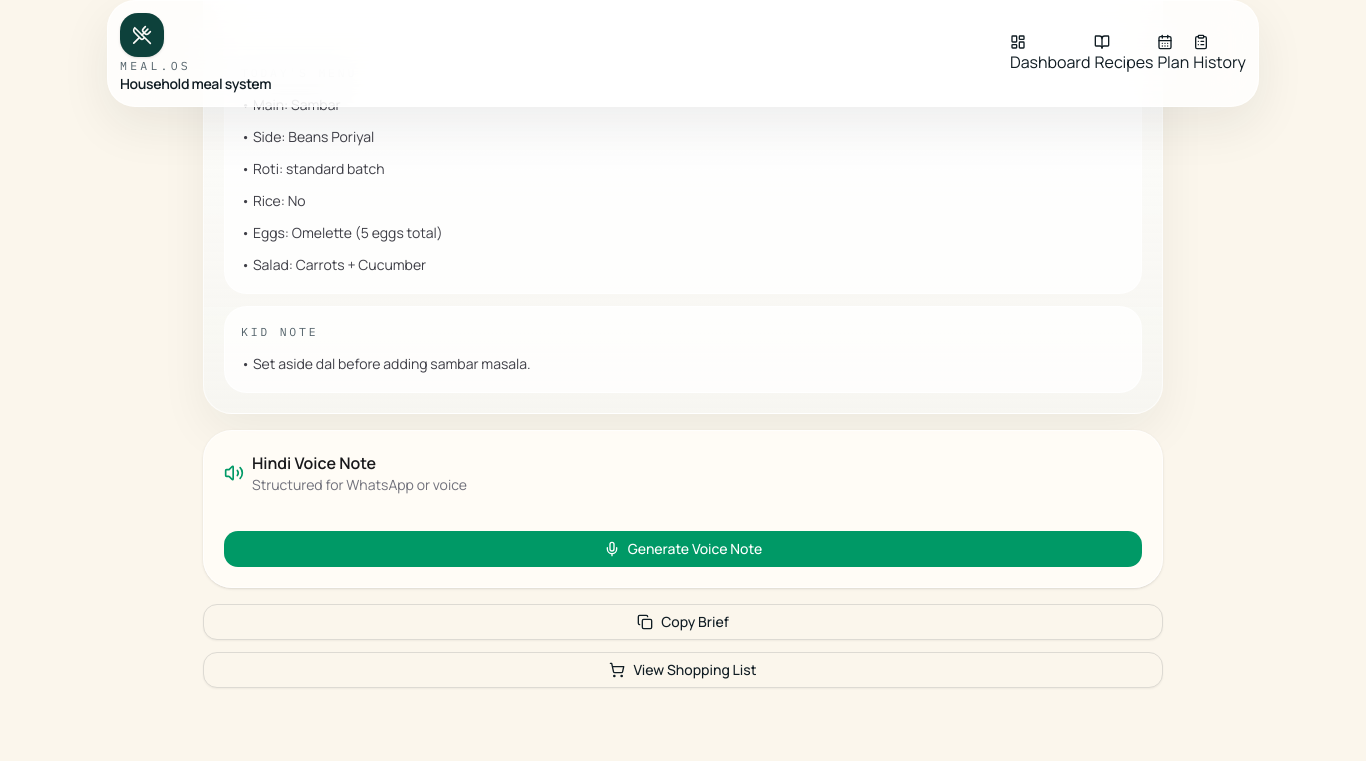
Test case: CookBriefPage › should expand and show Hindi script text when toggled
This screenshot has width=1366, height=761.
(page scrolled)
Click the button "Generate Voice Note". click: (683, 549)
box: [224,531,1142,567]
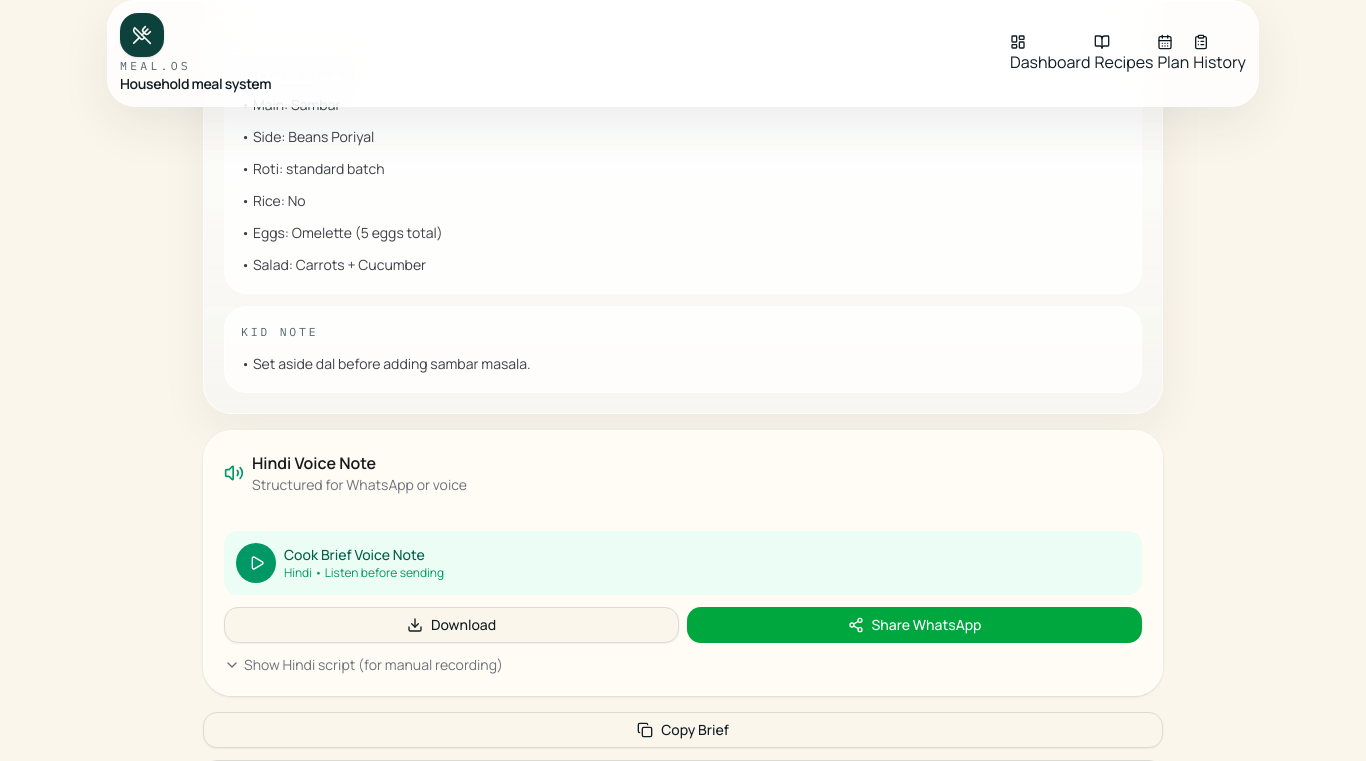
Expected: the button "Show Hindi script (for manual recording)" is shown
Note: Click to expand the script
Click the button "Show Hindi script (for manual recording)". click: (363, 665)
box: [224,655,503,675]
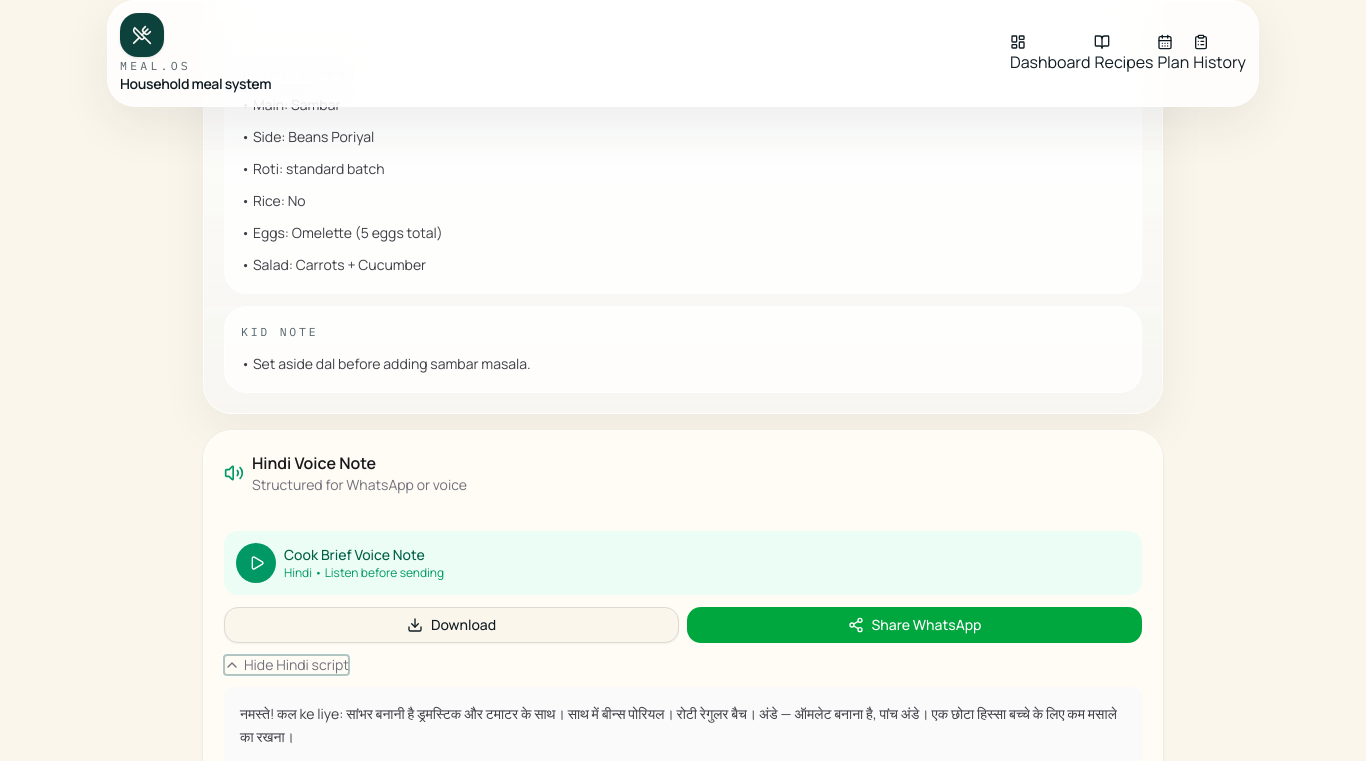
Expected: the text "नमस्ते" is shown, [240,704,1120,746]
